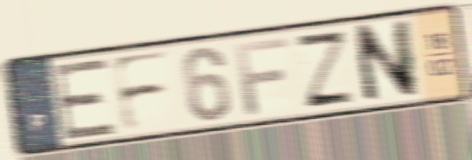6: (180, 43, 233, 124)
E: (50, 55, 119, 143)
F: (109, 47, 173, 136), (232, 34, 292, 118)
N: (349, 16, 421, 107)
Z: (291, 29, 360, 111)
